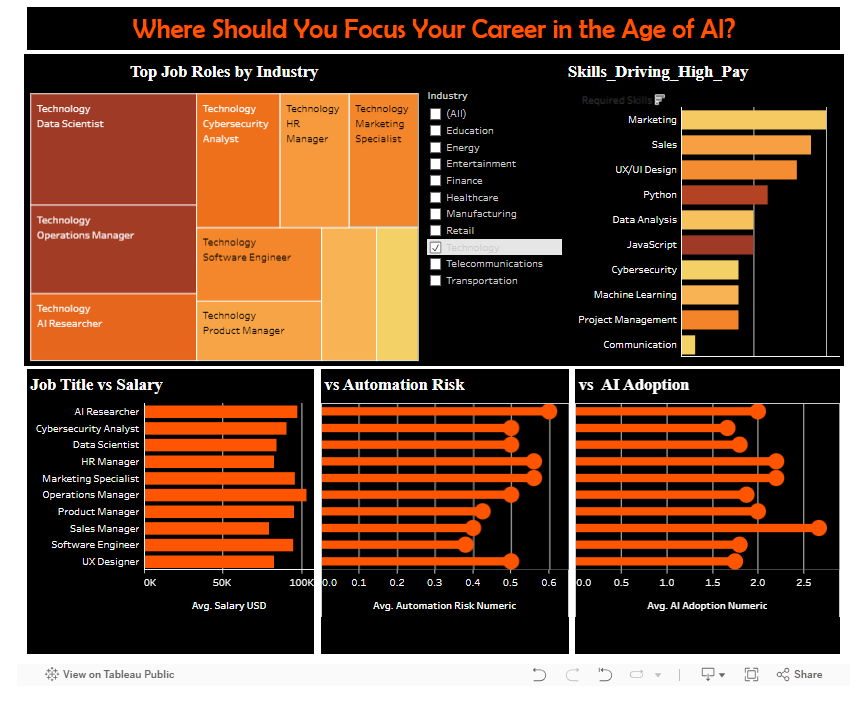

Layout of this report page (visuals, bound fields, positions):
{"tool":"tableau","page":{"name":"Dashboard 1","canvas":[1000,800],"ordinal":0},"visuals":[{"type":"text","box":[8,8,984,59.9]},{"type":"worksheet","title":"Sheet 3","mark":"Automatic","box":[8,67.9,645,375.1]},{"type":"worksheet","title":"Sheet 5","mark":"Automatic","rows":["Required_Skills"],"cols":["Job_Title"],"box":[653,67.9,339,375.1]},{"type":"filter","title":"Sheet 3","param":"[federated.030j0fl1msq0ys17wonnb0x1ncr7].[none:Industry:nk]","box":[488,107,170,335]},{"type":"worksheet","title":"Sheet 4","mark":"Automatic","rows":["Job_Title"],"cols":["Salary_USD"],"box":[8,443,353,349]},{"type":"worksheet","title":"Sheet 8 (2)","mark":"Automatic","rows":["Job_Title"],"cols":["Calculation_3052314710441844738","Calculation_3052314710441844738"],"box":[361,443,305,349]},{"type":"worksheet","title":"Sheet 8 (3)","mark":"Automatic","rows":["Job_Title"],"cols":["Calculation_3052314710441664513","Calculation_3052314710441664513"],"box":[666,443,326,349]}]}

Visuals, with their boxes in screenshot pixels (x1, y1, x2, y2):
text: crop(22, 0, 857, 49)
"Sheet 3" worksheet: crop(22, 49, 569, 367)
"Sheet 5" worksheet: crop(569, 49, 857, 367)
"Sheet 3" filter: crop(430, 82, 574, 366)
"Sheet 4" worksheet: crop(22, 367, 322, 663)
"Sheet 8 (2)" worksheet: crop(322, 367, 581, 663)
"Sheet 8 (3)" worksheet: crop(581, 367, 857, 663)
